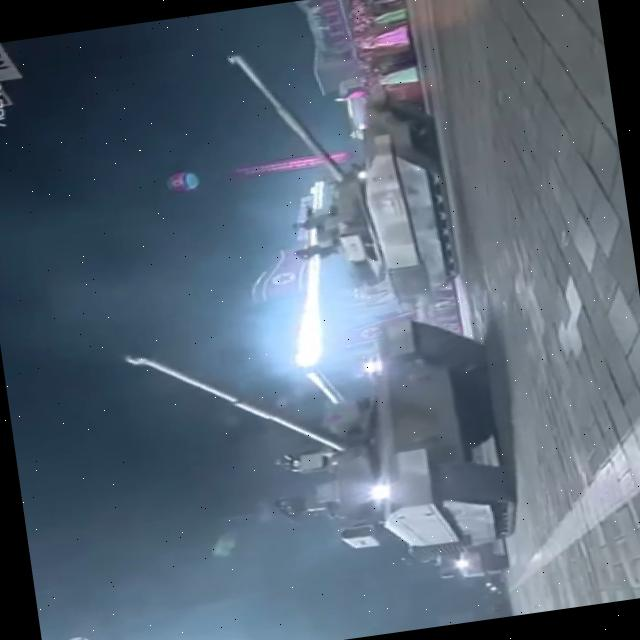north tank: (106, 263, 530, 623), (196, 2, 496, 354)
